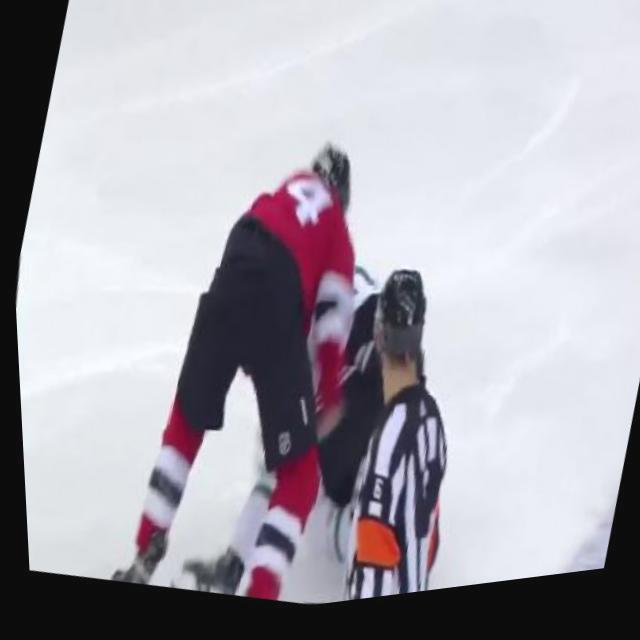fight: (73, 88, 478, 633)
